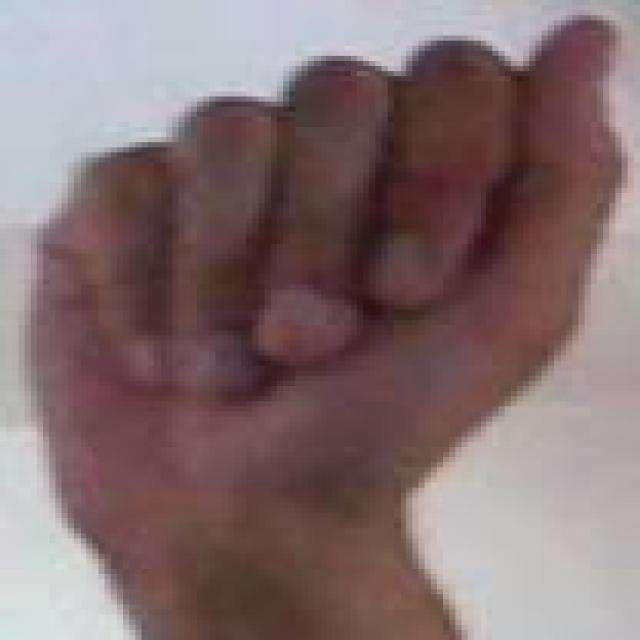A: (2, 5, 632, 639)
